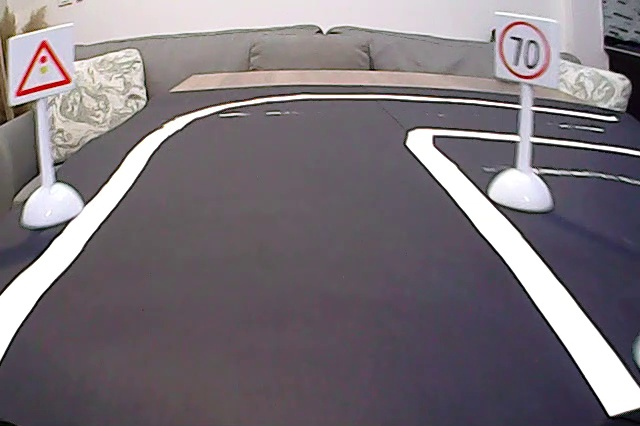red light: (9, 36, 73, 100)
speed limit 70: (498, 13, 552, 84)
